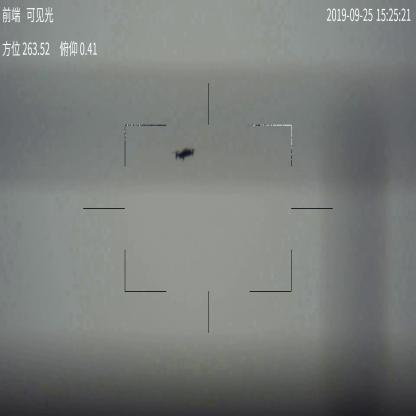uav: (173, 148, 194, 161)
